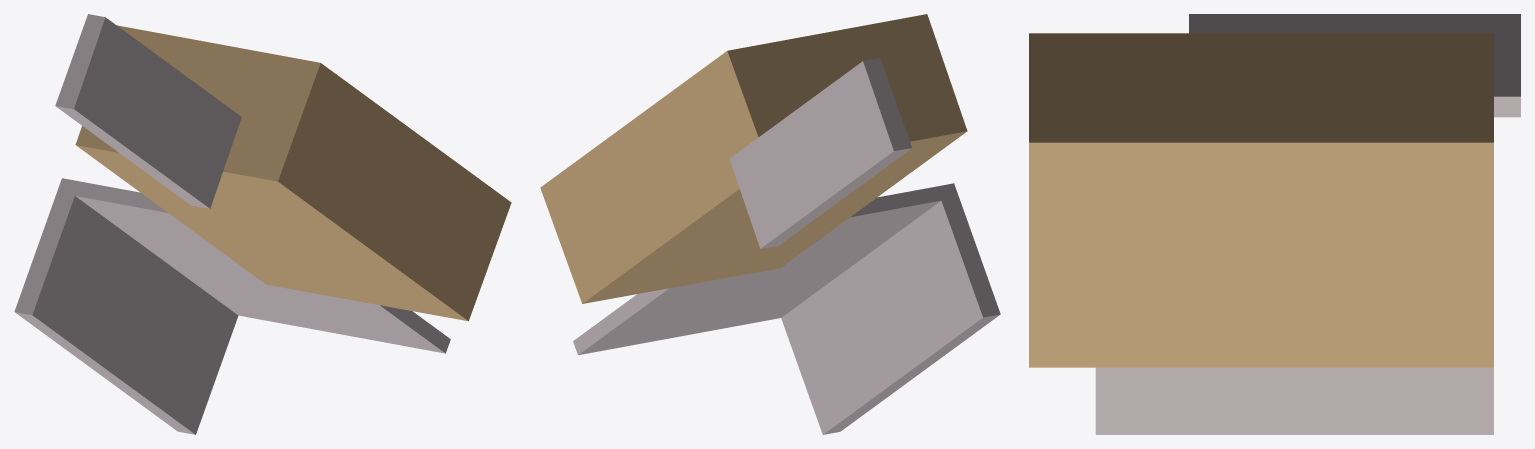
3 views of the same model, side by side, from view 1: azimuth 30°, elevation 25°; view 2: azimuth 150°, elevation 25°; view 3: azimuth 270°, elevation 25° (orthographic). The views are drawn at different scales.
Visible parts, largest first — view 1: 0_2_0_1_2_2_2_2_2_3; view 2: 0_2_0_1_2_2_2_2_2_3; view 3: 0_2_0_1_2_2_2_2_2_3.
Boxes of the visible parts, <box> form: 0_2_0_1_2_2_2_2_2_3: <box>14,14,511,434</box>; 0_2_0_1_2_2_2_2_2_3: <box>540,14,1000,434</box>; 0_2_0_1_2_2_2_2_2_3: <box>1029,14,1520,434</box>.
Size of the model in its own units: 19.46 by 16.8 by 22.22.
